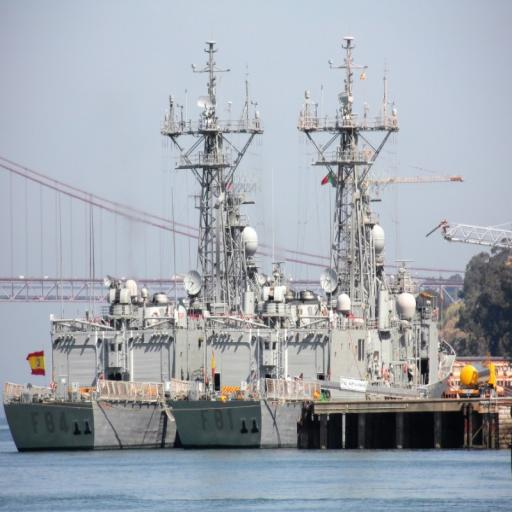Fragata: (164, 22, 455, 454), (3, 25, 281, 453)
